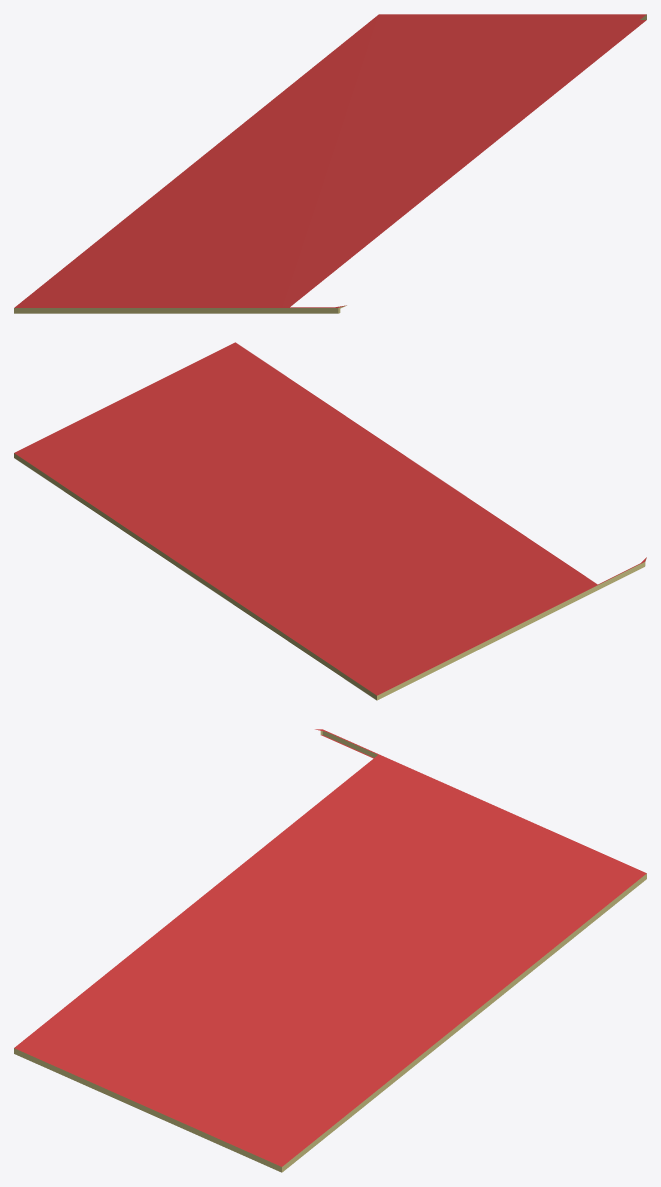
3 renders of one model, top to bottom at view 1: azimuth 90°, elevation 25°; view 2: azimuth 150°, elevation 25°; view 3: azimuth 270°, elevation 25°, orthographic. The views are drawn at different scales.
Size of the model in its own units: 13.6 by 9.95 by 1.37.
